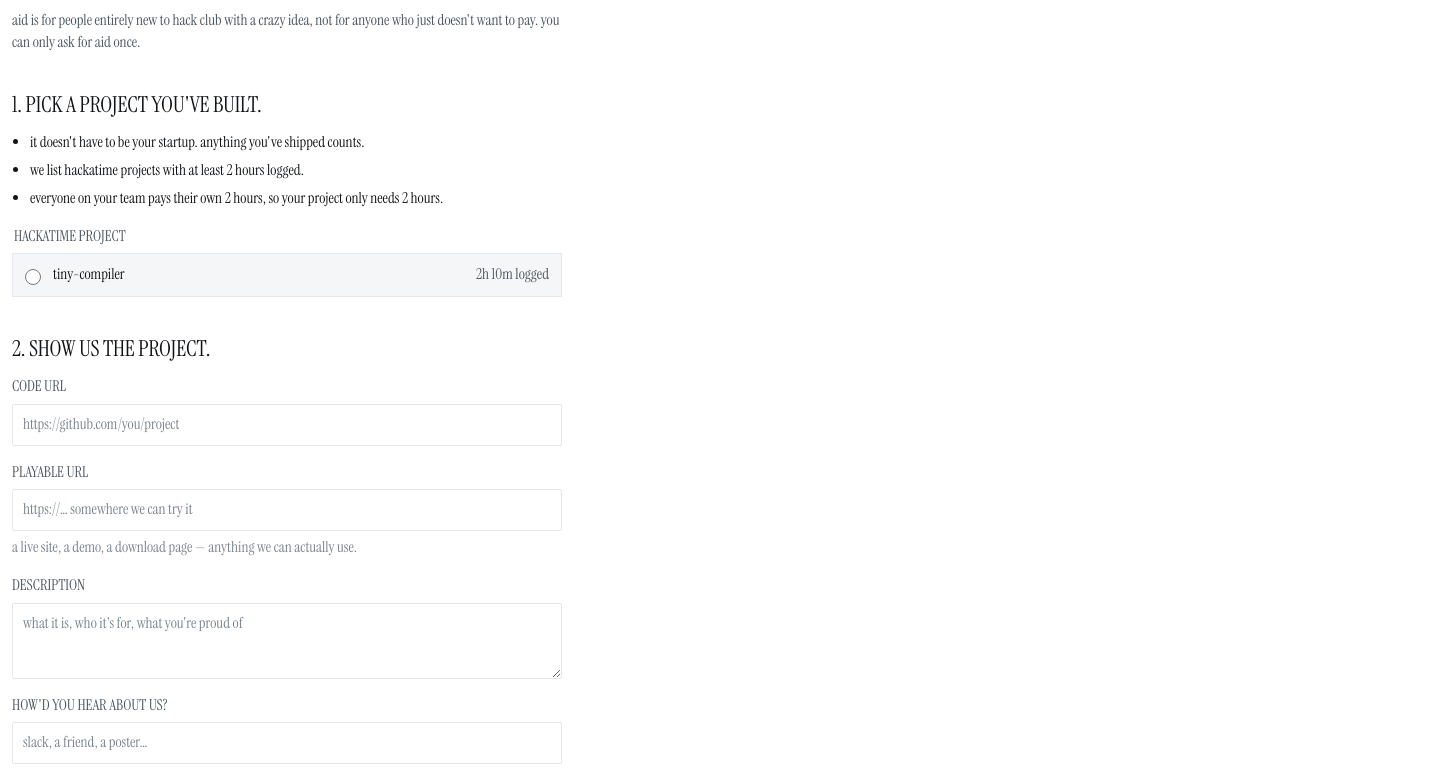
Test case: ApplyForm — everyone pays for themselves › goes back to the founder paying everything when switched
The width and height of the screenshot is (1452, 777).
Click the radio button labelled "tiny-compiler 2h 10m logged" at (33, 277), box [25,269,41,285]
(page scrolled)
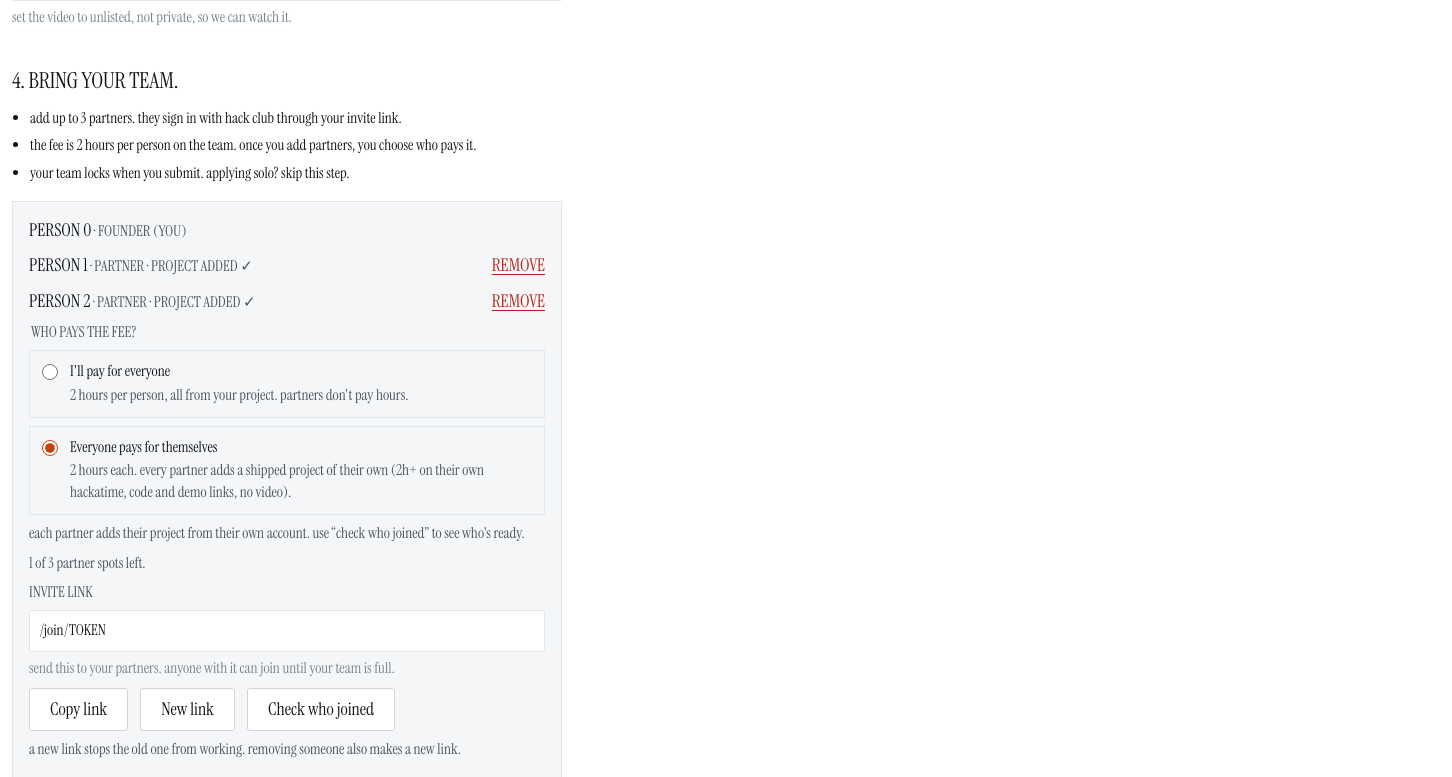
Click the radio button labelled "I'll pay for everyone" at (50, 372), box [42,364,58,380]
(page scrolled)
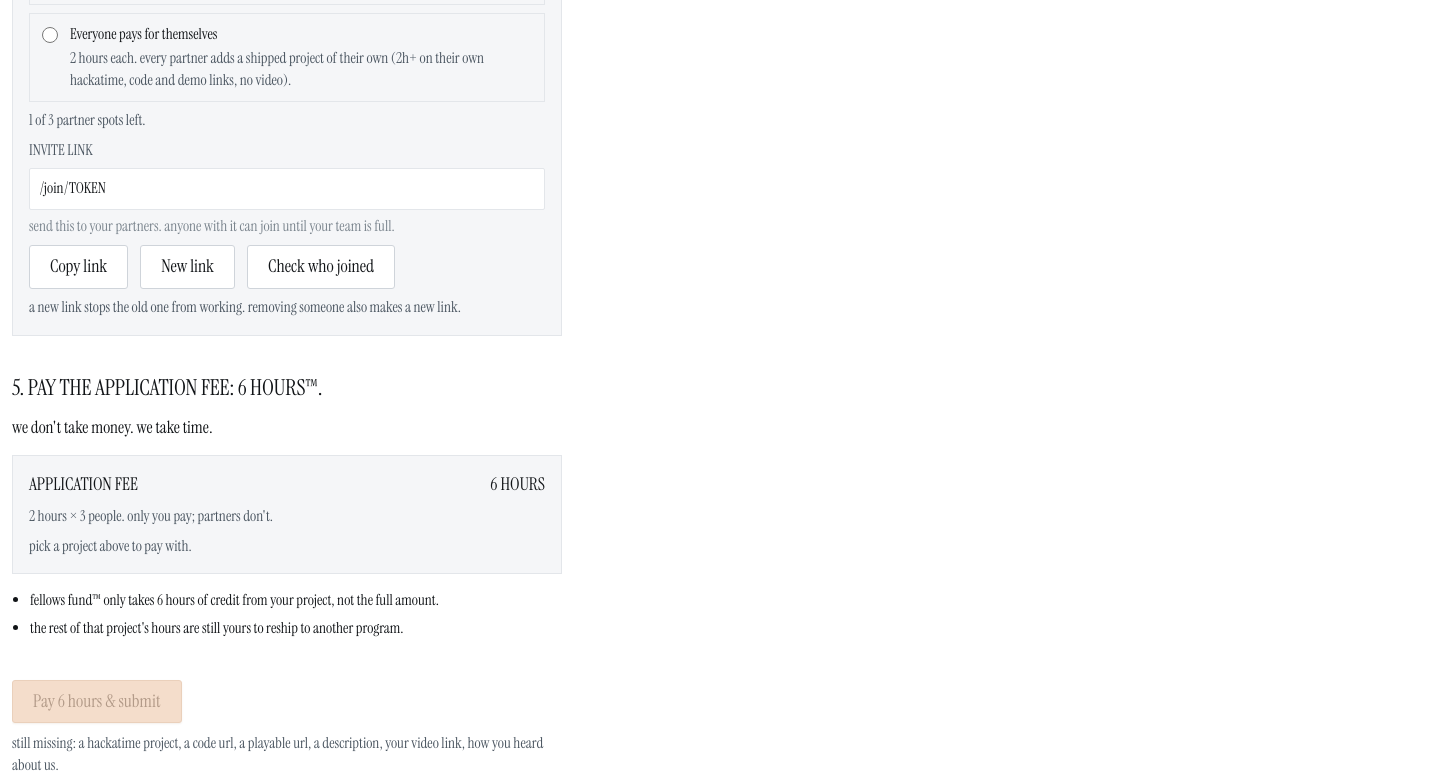
Result: the button "Pay 6 hours & submit" is shown at [12,680,182,723]
Result: the text with test id "still-missing" shows "a hackatime project" at [12,733,543,775]
